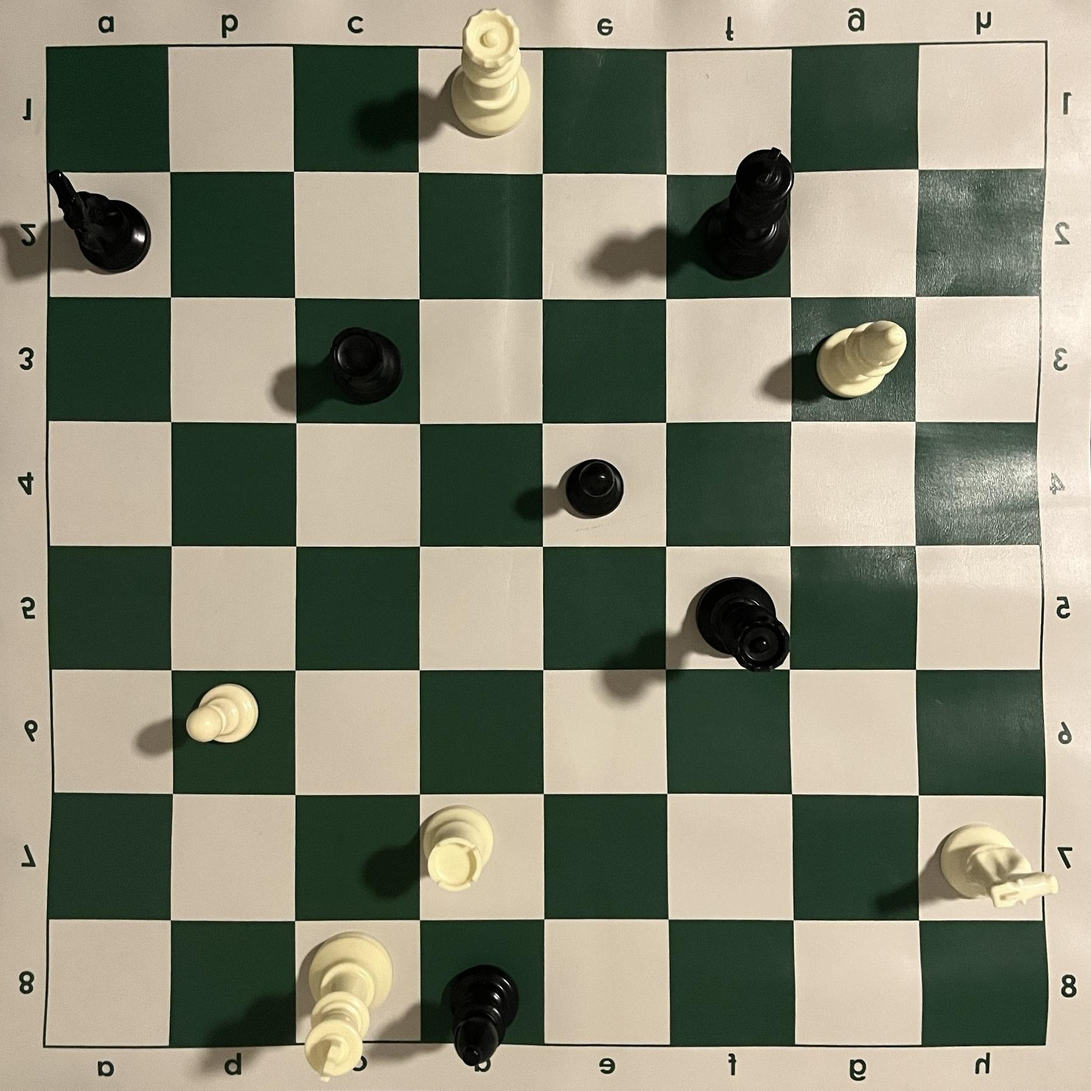black_bishop: (444, 964, 520, 1069)
black_king: (700, 146, 795, 280)
black_knight: (47, 169, 153, 274)
black_pawn: (566, 458, 625, 520)
black_queen: (693, 576, 791, 672)
black_rook: (330, 327, 404, 405)
white_bishop: (816, 320, 908, 400)
white_king: (303, 931, 394, 1081)
white_knight: (940, 823, 1059, 911)
white_pawn: (187, 684, 259, 745)
white_queen: (450, 8, 531, 138)
white_rook: (419, 805, 494, 893)
